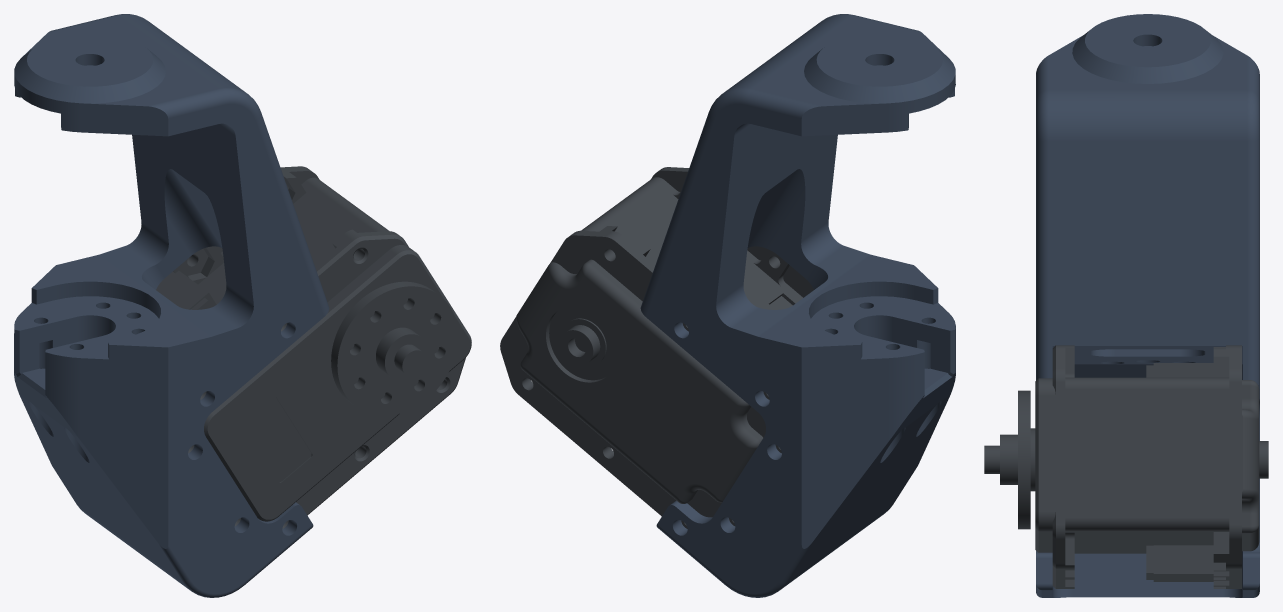
File: shoulder.dae
3 views of the same model, side by side, from view 1: azimuth 30°, elevation 25°; view 2: azimuth 150°, elevation 25°; view 3: azimuth 270°, elevation 25° (orthographic).
Parts seen in each view (by area): view 1: Part 1, Dynamixel_motor_CAD v15; view 2: Part 1, Dynamixel_motor_CAD v15; view 3: Part 1, Dynamixel_motor_CAD v15.
Boxes of the visible parts, x1=… form: Part 1: x1=14, y1=14, x2=329, y2=597; Dynamixel_motor_CAD v15: x1=156, y1=166, x2=471, y2=528; Part 1: x1=640, y1=14, x2=955, y2=597; Dynamixel_motor_CAD v15: x1=500, y1=167, x2=813, y2=528; Part 1: x1=1036, y1=14, x2=1259, y2=597; Dynamixel_motor_CAD v15: x1=984, y1=345, x2=1268, y2=588.
Size of the model in its own units: 0.0727 by 0.0451 by 0.09.
